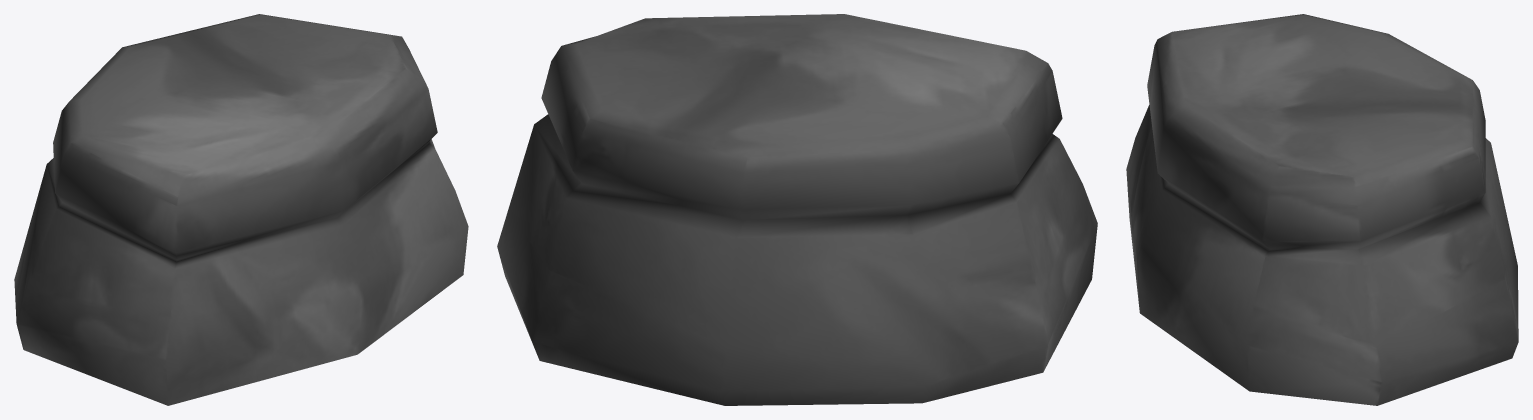
Rendered from roca4.fbx.
3 views of the same model, side by side, from view 1: azimuth 30°, elevation 25°; view 2: azimuth 150°, elevation 25°; view 3: azimuth 270°, elevation 25° (orthographic). The views are drawn at different scales.
Visible parts, largest first — view 1: sm_roca_3; view 2: sm_roca_3; view 3: sm_roca_3.
Boxes of the visible parts, x1,y1,x2,y2 form: sm_roca_3: (14, 14, 468, 405); sm_roca_3: (497, 14, 1097, 405); sm_roca_3: (1126, 14, 1518, 405).
Bounding box in the file's own units: 313 × 138 × 239.
Materials: 1 (1 with a texture image).
